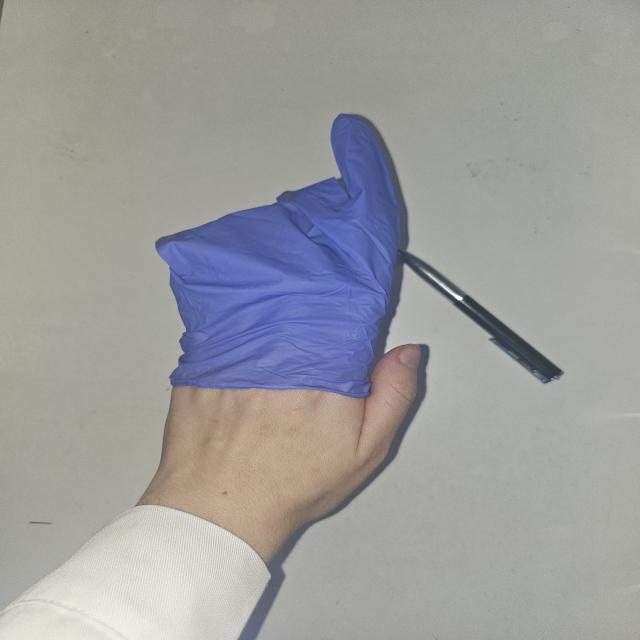glove_partial: (153, 113, 426, 512)
